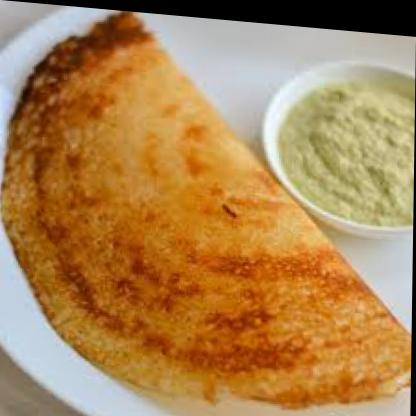dosa: (0, 1, 416, 414)
